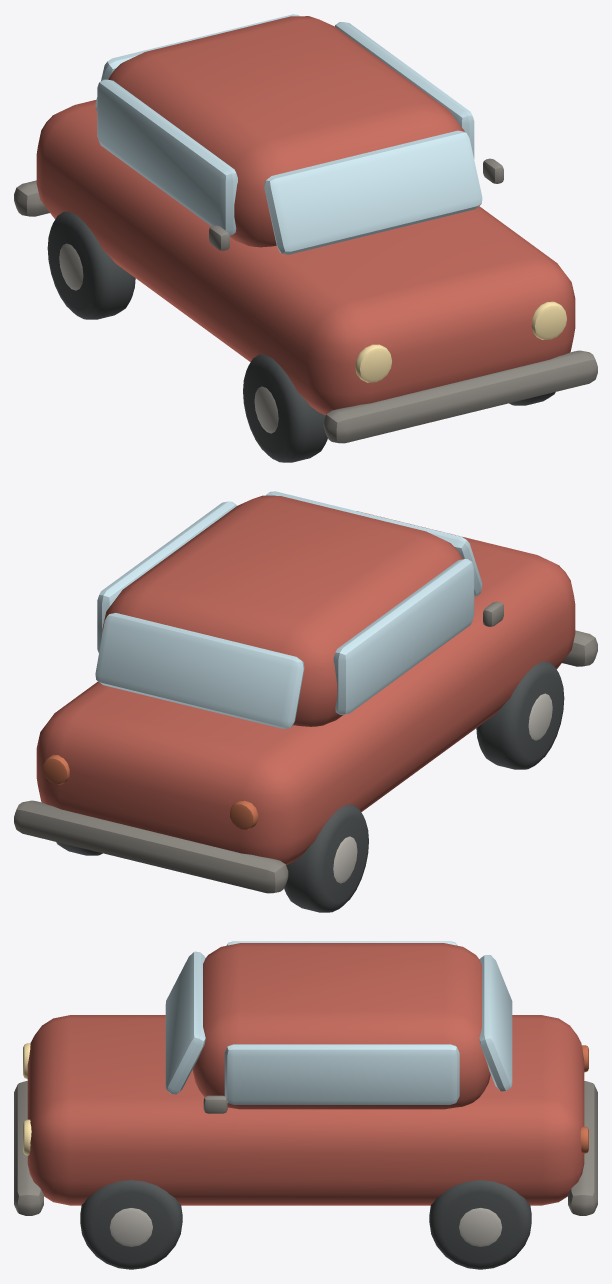
Rendered from car_red.glb.
3 renders of one model, top to bottom at view 1: azimuth 30°, elevation 25°; view 2: azimuth 150°, elevation 25°; view 3: azimuth 270°, elevation 25°, orthographic. The views are drawn at different scales.
Visible parts, largest first — view 1: car_red.001, glass, steel_dark, rubber, light, steel; view 2: car_red.001, glass, rubber, steel_dark, steel, food_c; view 3: car_red.001, glass, rubber, steel_dark, steel, light.
Part boxes in pixels (bbox=[...]): car_red.001: bbox=[36, 16, 575, 415]; glass: bbox=[95, 14, 482, 254]; steel_dark: bbox=[14, 158, 597, 443]; rubber: bbox=[47, 211, 555, 462]; light: bbox=[355, 301, 566, 382]; steel: bbox=[59, 243, 278, 433]; car_red.001: bbox=[36, 495, 575, 865]; glass: bbox=[95, 491, 482, 728]; rubber: bbox=[56, 661, 564, 912]; steel_dark: bbox=[14, 601, 597, 893]; steel: bbox=[333, 693, 552, 883]; food_c: bbox=[43, 754, 258, 829]; car_red.001: bbox=[27, 943, 584, 1205]; glass: bbox=[165, 941, 512, 1104]; rubber: bbox=[80, 1180, 531, 1269]; steel_dark: bbox=[14, 1081, 597, 1215]; steel: bbox=[109, 1208, 502, 1246]; light: bbox=[23, 1043, 31, 1155].
Size of the model in its own units: 0.98 by 0.86 by 1.94.
